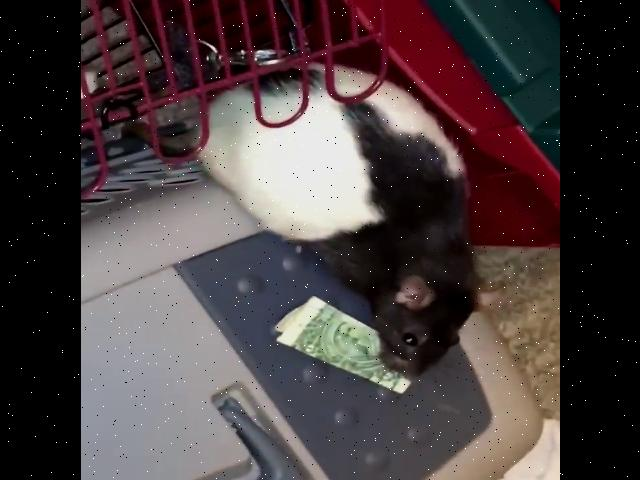Tikus: (198, 60, 484, 379)
